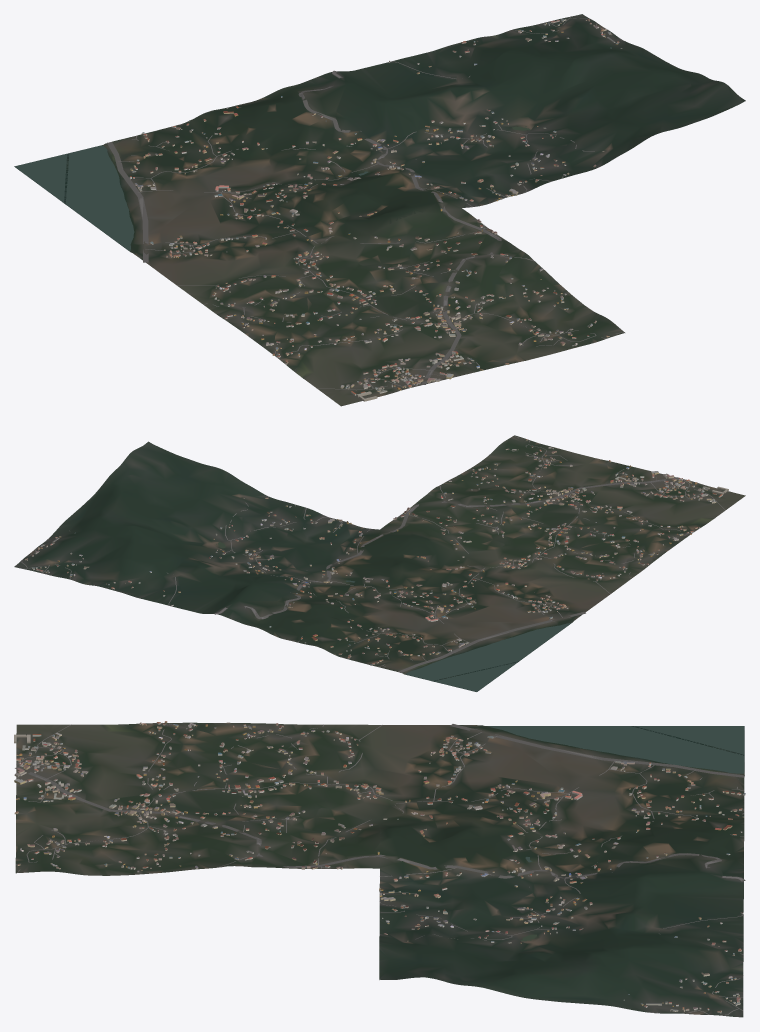
3 renders of one model, top to bottom at view 1: azimuth 30°, elevation 25°; view 2: azimuth 150°, elevation 25°; view 3: azimuth 270°, elevation 25°, orthographic. The views are drawn at different scales.
Visible parts, largest first — view 1: ground, buildings, water, roads; view 2: ground, buildings, water, roads; view 3: ground, buildings, water, roads.
Part boxes in pixels (x1=…): ground: x1=14, y1=14, x2=745, y2=406; buildings: x1=129, y1=18, x2=622, y2=401; water: x1=14, y1=126, x2=530, y2=251; roads: x1=107, y1=16, x2=625, y2=390; ground: x1=14, y1=435, x2=745, y2=691; buildings: x1=25, y1=439, x2=728, y2=665; water: x1=216, y1=542, x2=571, y2=691; roads: x1=21, y1=435, x2=725, y2=672; ground: x1=15, y1=722, x2=744, y2=1017; buildings: x1=14, y1=721, x2=745, y2=1013; water: x1=487, y1=726, x2=744, y2=941; roads: x1=15, y1=723, x2=745, y2=1015.
Size of the model in its own units: 2813 by 240 by 2818.
